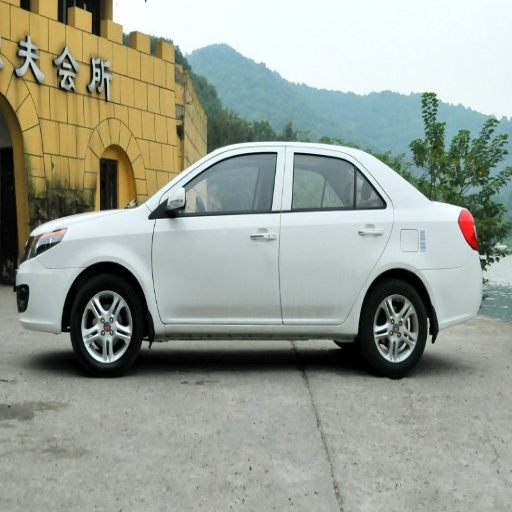back_left_door: (282, 148, 393, 323)
front_left_door: (152, 148, 284, 323)
